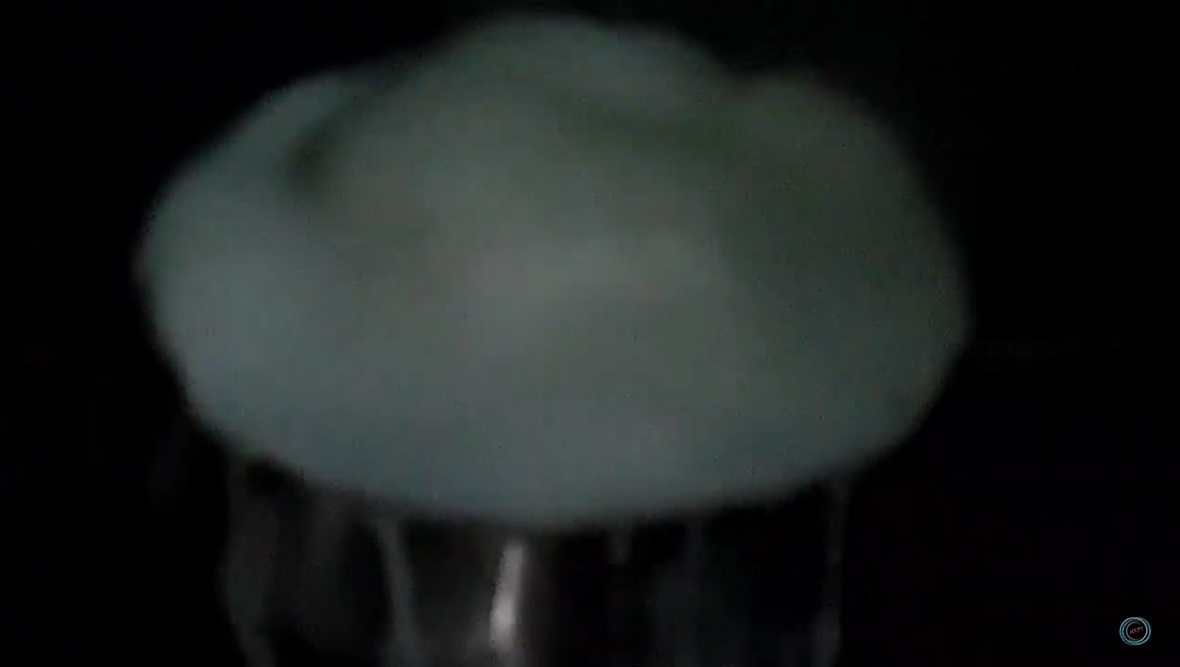Boiled: (142, 16, 947, 592)
